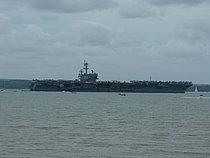MIL_Ship: (28, 60, 195, 94)
